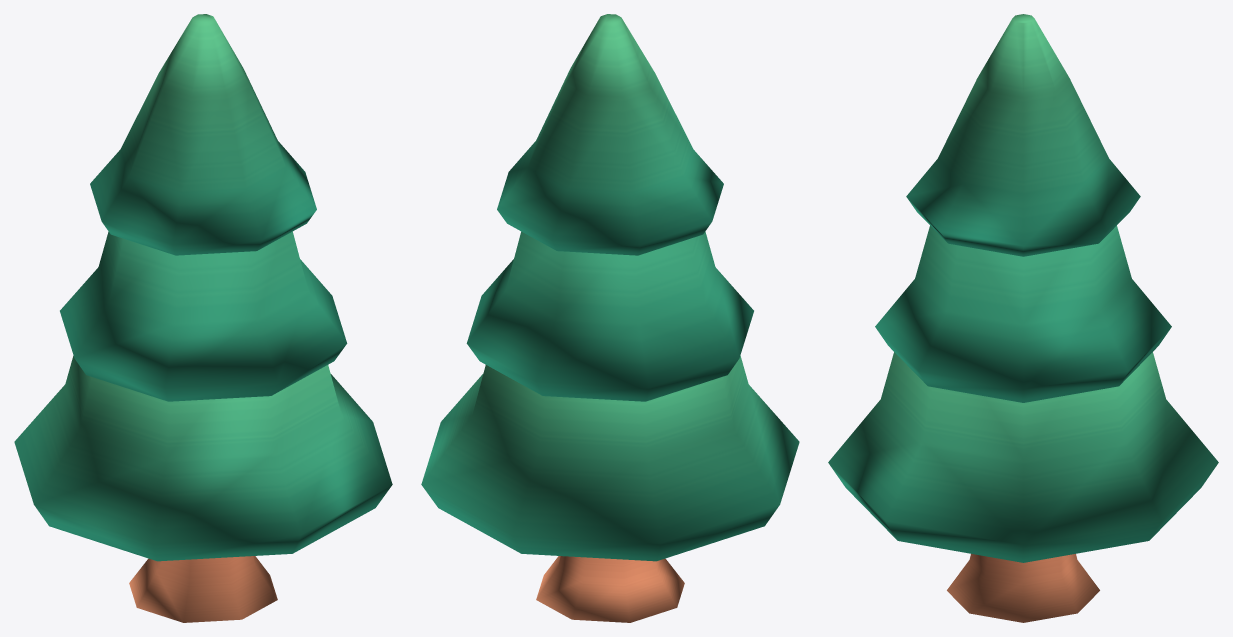
Rendered from tree_lev3.glb.
3 renders of one model, left to right at view 1: azimuth 30°, elevation 25°; view 2: azimuth 150°, elevation 25°; view 3: azimuth 270°, elevation 25°, orthographic.
Visible parts, largest first — view 1: tree_lev3; view 2: tree_lev3; view 3: tree_lev3.
Boxes of the visible parts, x1,y1,x2,y2 form: tree_lev3: (14,14,392,622); tree_lev3: (421,14,799,622); tree_lev3: (828,14,1218,622).
Bounding box in the file's own units: 1.19 × 1.92 × 1.19.
1 material, 1 textured.
